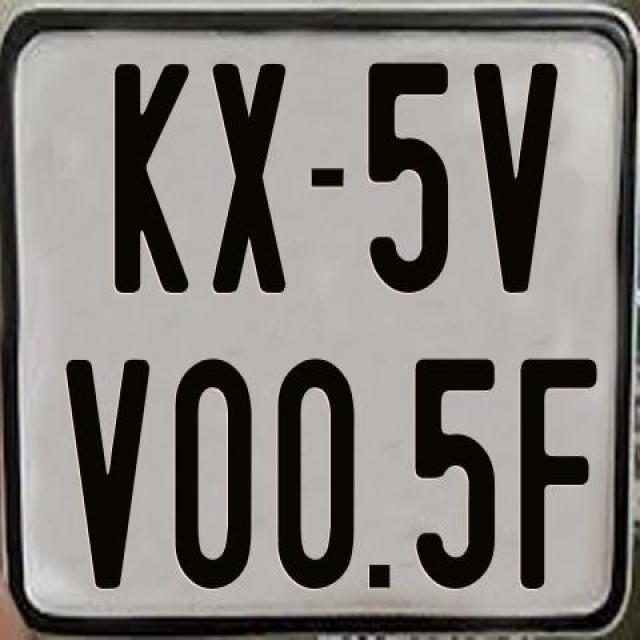0: (273, 356, 356, 594), (174, 353, 258, 584)
5: (365, 61, 452, 300), (411, 354, 498, 588)
F: (517, 353, 599, 584)
K: (114, 59, 190, 294)
V: (62, 357, 154, 592), (471, 64, 558, 293)
X: (209, 62, 287, 301)
